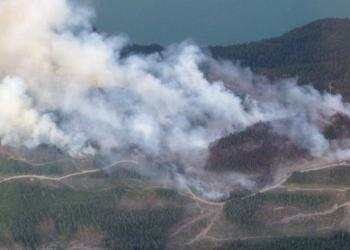smoke: (1, 1, 255, 199), (162, 69, 349, 164), (171, 37, 350, 119)
